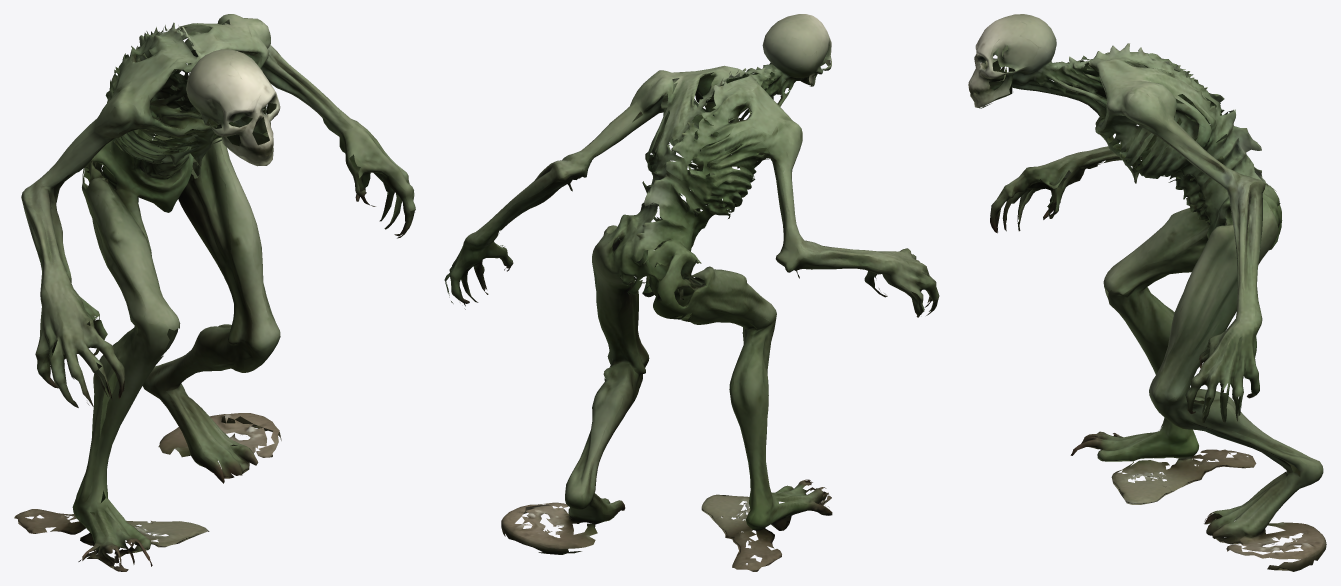
Rendered from mob_crypt_ghoul.glb.
The picture shows the model from 3 angles, left to right: view 1: azimuth 30°, elevation 25°; view 2: azimuth 150°, elevation 25°; view 3: azimuth 270°, elevation 25°; orthographic projection. The views are drawn at different scales.
Parts seen in each view (by area): view 1: world; view 2: world; view 3: world.
Boxes of the visible parts, bbox=[...] form: world: bbox=[14, 14, 415, 571]; world: bbox=[444, 14, 939, 571]; world: bbox=[968, 14, 1326, 571].
Size of the model in its own units: 0.9046 by 0.9996 by 0.6846.
1 material, 1 textured.
